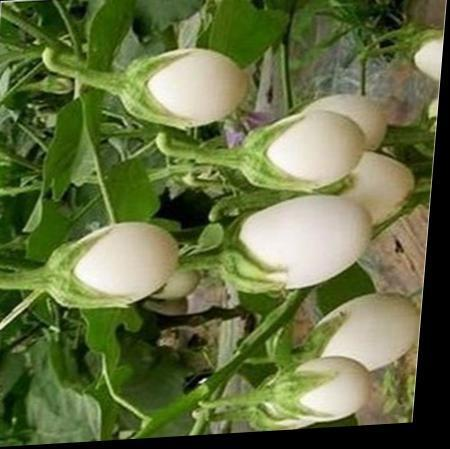eggplant: (186, 84, 438, 438), (80, 25, 255, 160), (25, 221, 212, 339)
